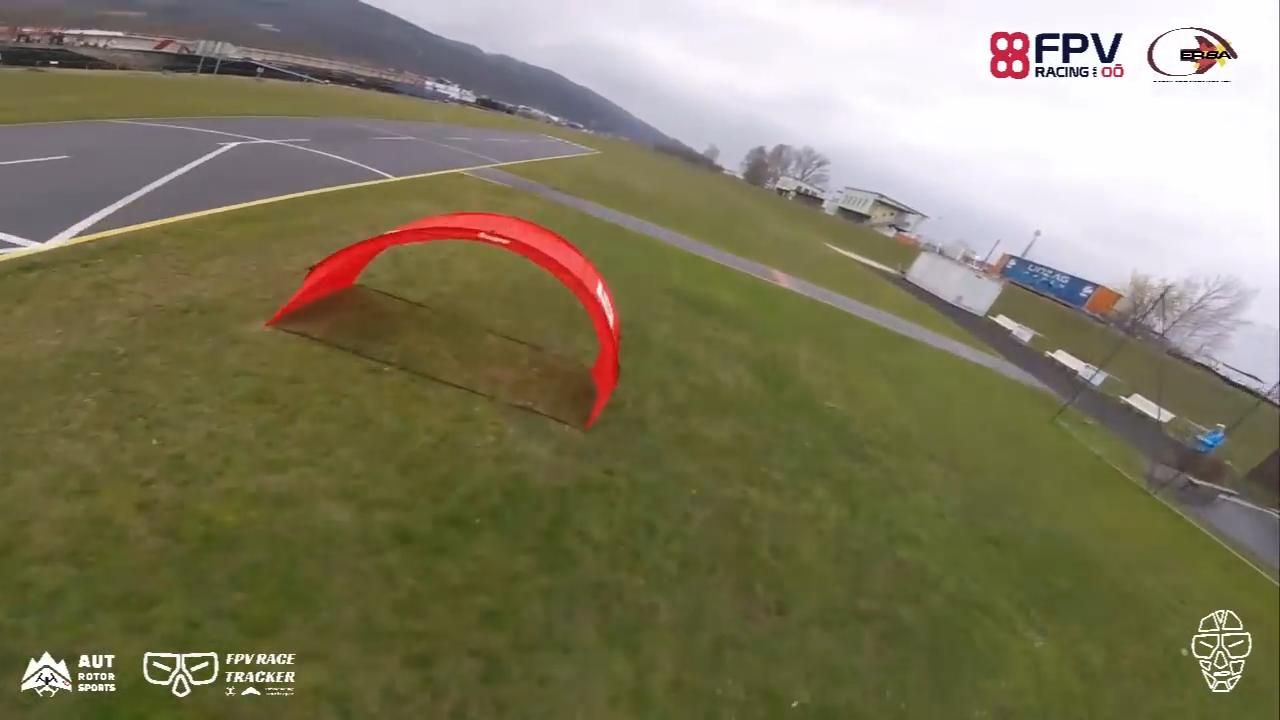gate: (265, 210, 633, 432)
